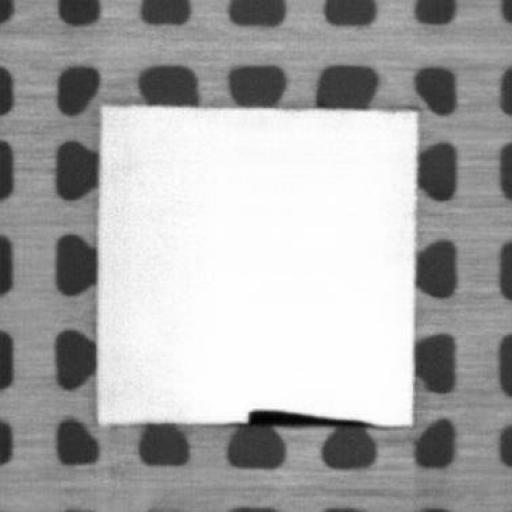DIE_BROKEN: (243, 407, 375, 427)
